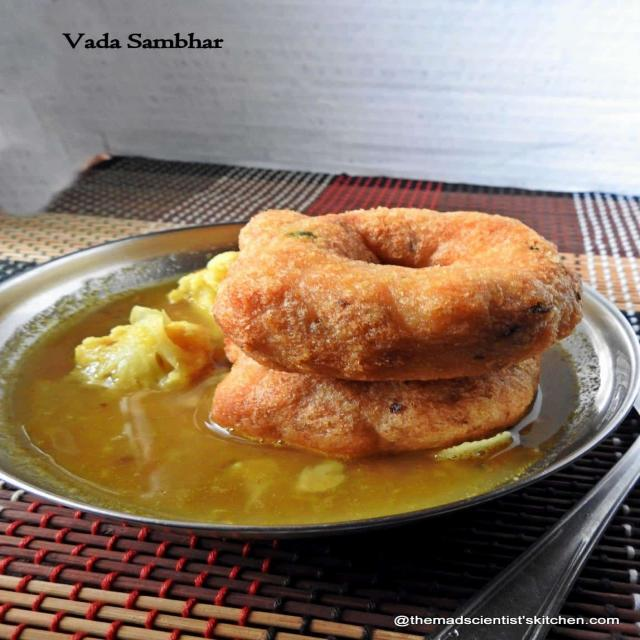MEDU VADA: (196, 197, 585, 464)
